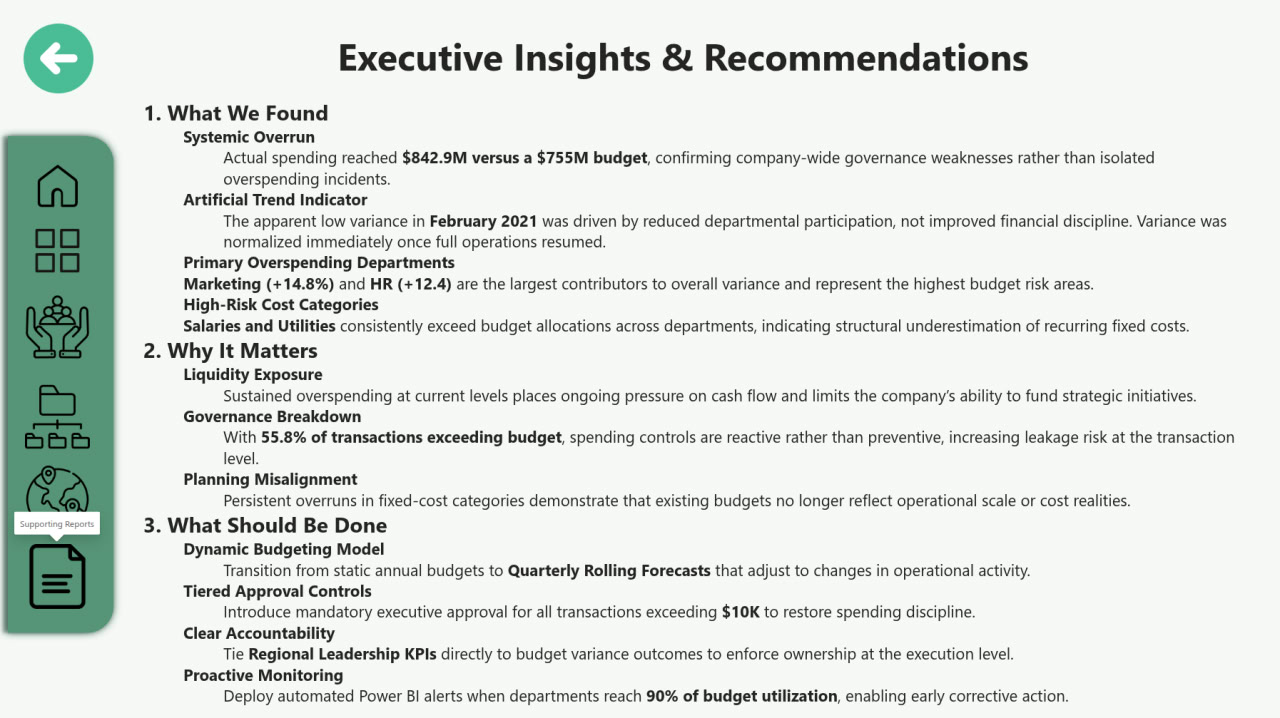

Layout of this report page (visuals, bound fields, positions):
{"tool":"powerbi","page":{"name":"Supporting Reports","canvas":[1280,720],"ordinal":5},"visuals":[{"type":"shape","box":[0,128.3,121.7,513.3],"z":0},{"type":"image","box":[25,218.3,65,65],"z":1000},{"type":"image","box":[25,295,65,65],"z":2000},{"type":"image","box":[25,385,65,65],"z":3000},{"type":"image","box":[25,466.7,65,65],"z":4000},{"type":"image","box":[25,545,65,65],"z":5000},{"type":"image","box":[25,153.3,65,65],"z":6000},{"type":"image","box":[18.3,23.3,80,70],"z":7000},{"type":"textbox","box":[332.9,25.7,730,65.7],"z":8000},{"type":"textbox","box":[138.3,93.1,1134.5,627.3],"z":9000}]}

Visuals, with their boxes on the page's 1280x720 design canvas (x1, y1, x2, y2). These are canvas units, not pixel positions in the 1280x718 screenshot, which may show the page scaled, cropped or inside an application window:
shape: (0,128,122,642)
image: (25,218,90,283)
image: (25,295,90,360)
image: (25,385,90,450)
image: (25,467,90,532)
image: (25,545,90,610)
image: (25,153,90,218)
image: (18,23,98,93)
textbox: (333,26,1063,91)
textbox: (138,93,1273,720)
